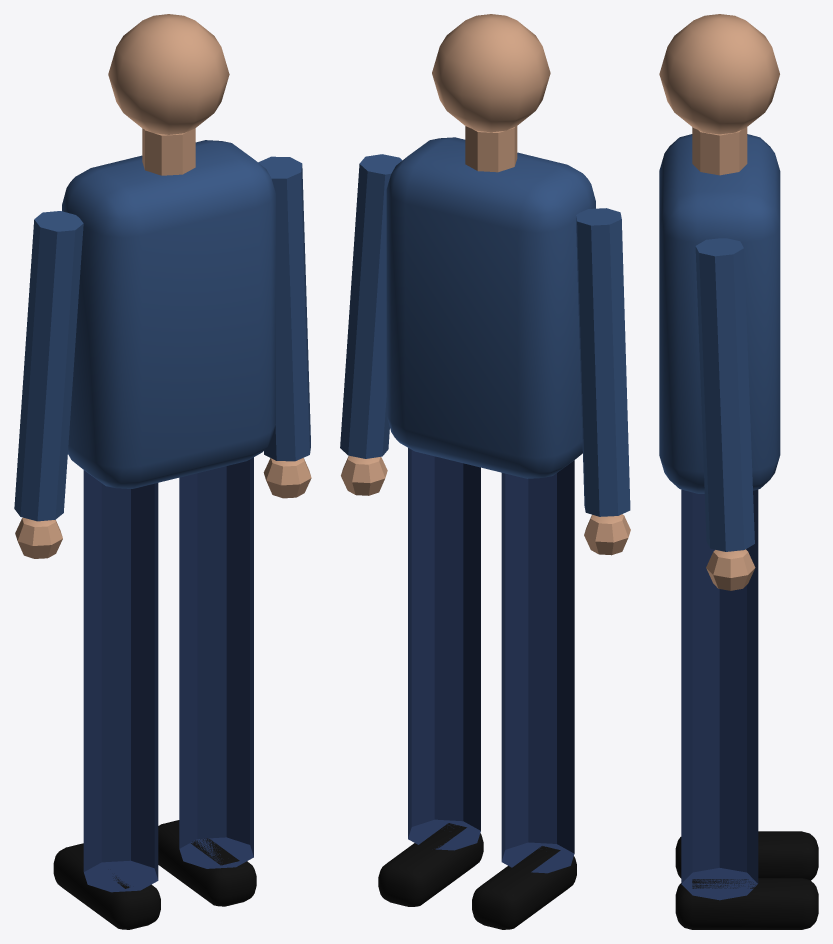
The model's file is people.public.man.glb.
3 views of the same model, side by side, from view 1: azimuth 30°, elevation 25°; view 2: azimuth 150°, elevation 25°; view 3: azimuth 270°, elevation 25° (orthographic). The views are drawn at different scales.
Parts seen in each view (by area): view 1: main__fabric_blue, main__denim, main__skin, main__plastic_black; view 2: main__fabric_blue, main__denim, main__skin, main__plastic_black; view 3: main__fabric_blue, main__denim, main__skin, main__plastic_black.
Boxes of the visible parts, x1,y1,x2,y2 form: main__fabric_blue: [14, 140, 310, 521]; main__denim: [83, 457, 253, 892]; main__skin: [15, 14, 311, 558]; main__plastic_black: [53, 820, 256, 929]; main__fabric_blue: [340, 137, 630, 516]; main__denim: [408, 448, 574, 873]; main__skin: [341, 14, 630, 555]; main__plastic_black: [378, 823, 576, 929]; main__fabric_blue: [659, 134, 780, 551]; main__denim: [681, 489, 758, 900]; main__skin: [659, 14, 779, 590]; main__plastic_black: [675, 831, 818, 929].
Bounding box in the file's own units: 0.61 × 1.77 × 0.29.
